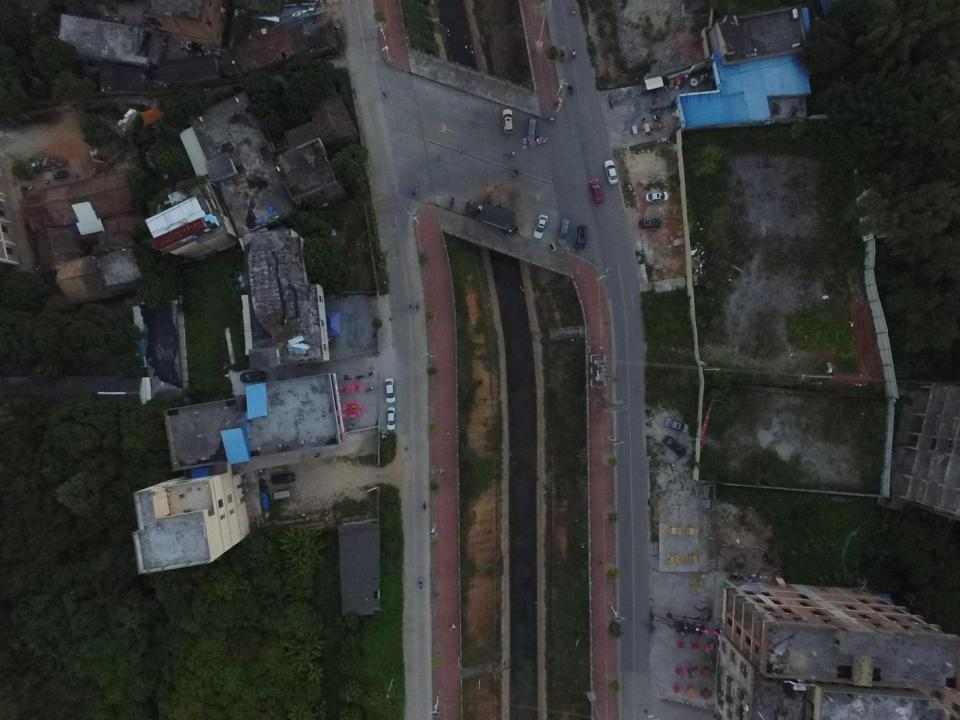car: (663, 433, 686, 459), (664, 417, 689, 433), (556, 218, 570, 246), (590, 178, 605, 204), (501, 108, 515, 135), (533, 214, 548, 239), (239, 371, 267, 384), (603, 160, 618, 184), (384, 377, 396, 404), (638, 217, 663, 229), (576, 226, 588, 250), (644, 191, 668, 202), (271, 473, 295, 484), (386, 406, 396, 431)
van: (270, 488, 294, 501), (526, 118, 538, 142)
